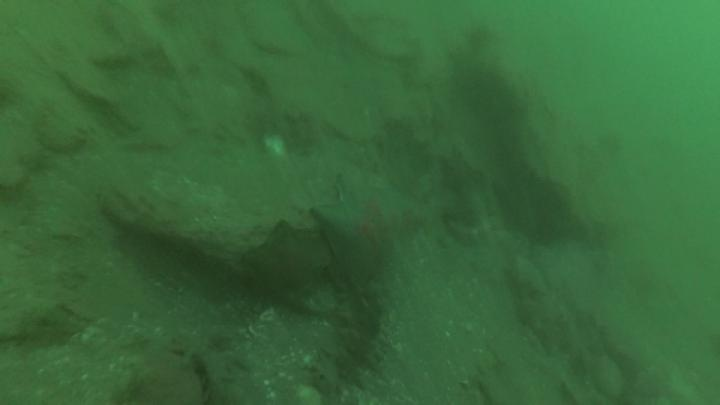holothurian: (329, 281, 386, 385)
starfish: (309, 171, 426, 287), (234, 220, 329, 307)
